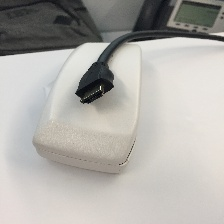hdmi_male: (65, 91, 154, 194)
